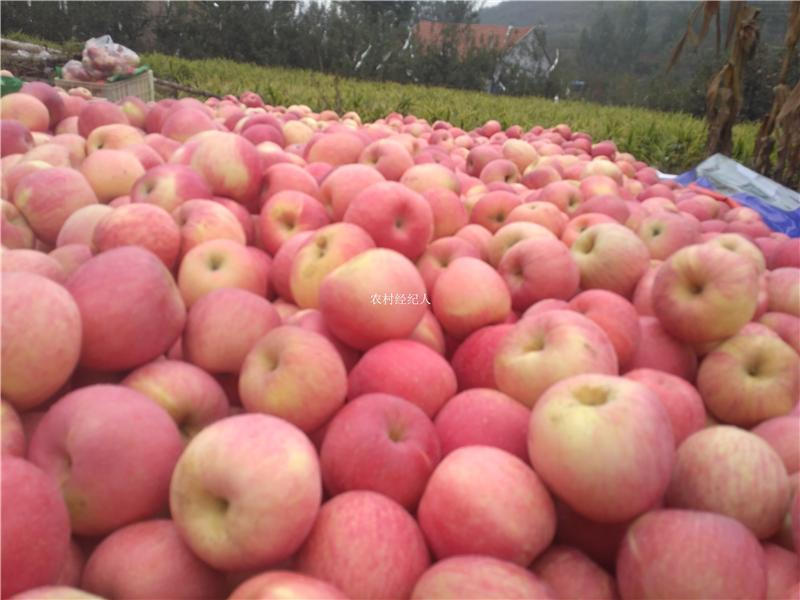apple: (166, 412, 322, 570), (28, 386, 182, 536), (528, 375, 677, 522), (417, 444, 559, 570), (63, 248, 183, 373), (299, 491, 435, 600), (671, 422, 794, 539), (321, 394, 442, 511), (620, 511, 769, 600), (492, 308, 617, 404), (79, 520, 227, 600), (237, 327, 347, 433), (315, 248, 428, 351), (2, 443, 75, 595), (651, 242, 756, 344), (117, 360, 231, 452), (696, 330, 798, 427), (342, 183, 432, 263), (12, 166, 103, 244), (496, 232, 578, 311), (568, 220, 651, 296), (176, 239, 271, 305), (256, 191, 330, 254), (169, 198, 251, 254), (129, 161, 211, 213), (418, 237, 480, 301), (632, 207, 701, 260), (468, 189, 521, 233), (479, 161, 518, 188)
